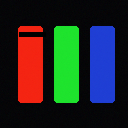3 line_h: (19, 32, 45, 36)
